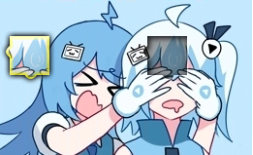gap: (145, 36, 187, 78)
